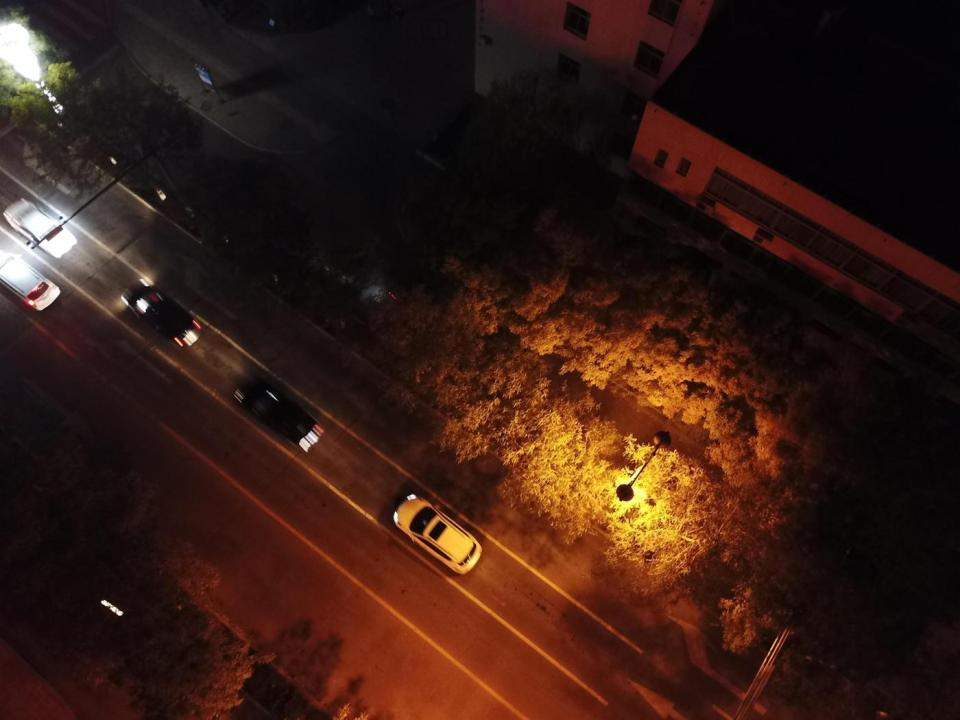car: (392, 493, 483, 575), (234, 378, 324, 450), (120, 277, 202, 349), (4, 199, 76, 256), (1, 252, 60, 312)
